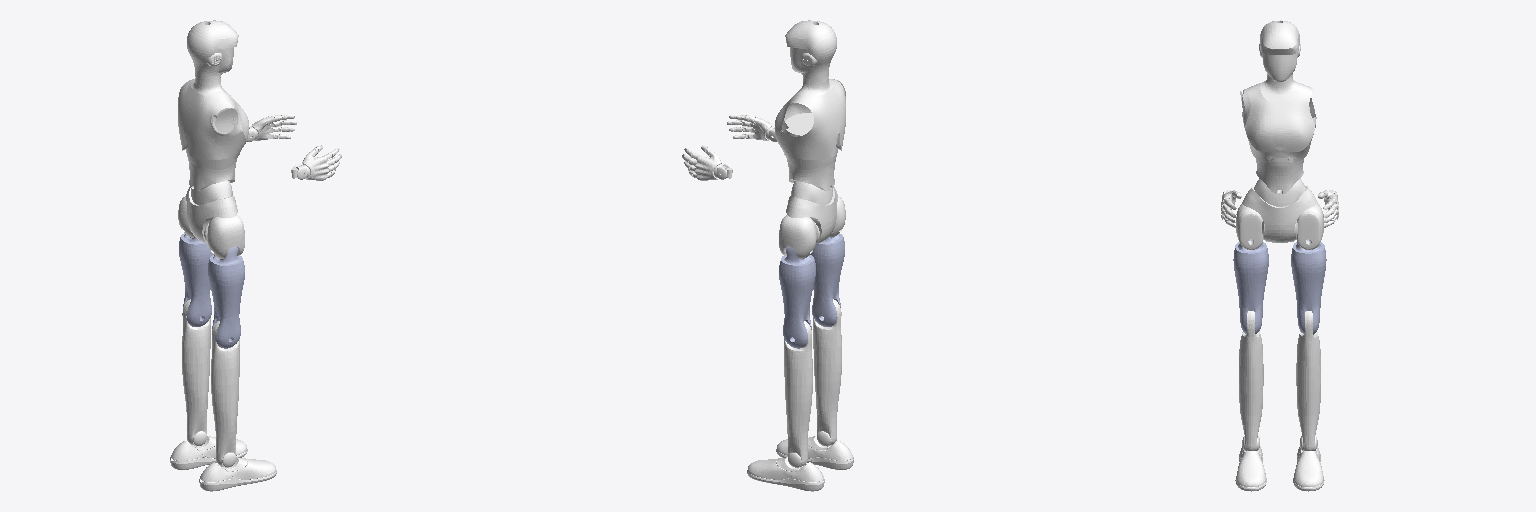
--- Render facts (derived) ---
The picture shows the robot from 3 angles, left to right: view 1: azimuth 30°, elevation 25°; view 2: azimuth 150°, elevation 25°; view 3: azimuth 270°, elevation 25°; orthographic projection.
Model X03B with 32 links and 31 joints (24 revolute, 7 fixed), rooted at pelvis, posed all joints at 0.
Links seen in each view (by area): view 1: torso_link, left_knee_link, right_knee_link, right_hip_yaw_link, head_yaw_link, left_hip_yaw_link, pelvis, right_ankle_roll_link, right_hip_pitch_link, left_ankle_roll_link, right_wrist_pitch_link, left_wrist_pitch_link; view 2: torso_link, right_knee_link, left_knee_link, left_hip_yaw_link, head_yaw_link, right_hip_yaw_link, pelvis, left_ankle_roll_link, left_hip_pitch_link, right_ankle_roll_link, left_wrist_pitch_link, right_wrist_pitch_link; view 3: torso_link, pelvis, left_knee_link, right_knee_link, left_hip_yaw_link, right_hip_yaw_link, head_yaw_link, left_ankle_roll_link, right_ankle_roll_link, left_hip_pitch_link, right_hip_pitch_link.
Link boxes in pixels (x1,y1,x2,y2): torso_link: (178,77,248,179); left_knee_link: (182,299,210,445); right_knee_link: (211,321,239,467); right_hip_yaw_link: (208,255,244,348); head_yaw_link: (187,20,238,81); left_hip_yaw_link: (179,233,213,326); pelvis: (186,181,237,243); right_ankle_roll_link: (199,457,276,491); right_hip_pitch_link: (207,215,244,258); left_ankle_roll_link: (170,436,247,469); right_wrist_pitch_link: (293,145,341,180); left_wrist_pitch_link: (247,115,296,141); torso_link: (775,77,845,179); right_knee_link: (813,299,841,445); left_knee_link: (784,321,812,467); left_hip_yaw_link: (779,255,815,348); head_yaw_link: (785,20,836,81); right_hip_yaw_link: (810,233,844,326); pelvis: (786,181,837,243); left_ankle_roll_link: (747,457,824,491); left_hip_pitch_link: (779,215,816,258); right_ankle_roll_link: (776,436,853,469); left_wrist_pitch_link: (682,145,730,180); right_wrist_pitch_link: (727,115,776,141); torso_link: (1240,75,1316,179); pelvis: (1242,178,1317,242); left_knee_link: (1296,311,1320,450); right_knee_link: (1239,311,1263,450); left_hip_yaw_link: (1291,242,1326,334); right_hip_yaw_link: (1233,242,1268,334); head_yaw_link: (1259,20,1300,81); left_ankle_roll_link: (1293,446,1324,491); right_ankle_roll_link: (1235,446,1266,491); left_hip_pitch_link: (1296,204,1323,249); right_hip_pitch_link: (1236,204,1262,249).
Bounding box of the posed robot: 0.5195 × 0.4004 × 1.66 m (x, y, z).
22 mesh visuals loaded from 22 distinct referenced files (22 binary STL).

robot.urdf — X03B:
<robot name="X03B">
  <mujoco>
    <compiler meshdir="./meshes" discardvisual="false" />
  </mujoco>

  <link name="pelvis">
    <inertial>
      <origin xyz="0.0019573 -1.0752E-05 0.056344" rpy="0 0 0" />
      <mass value="2" />
      <inertia ixx="0.018968" ixy="4.2654E-10" ixz="3.7162E-06" iyy="0.01665" iyz="-1.3974E-08" izz="0.015454" />
    </inertial>
    <visual>
      <origin xyz="0 0 0" rpy="0 0 0" />
      <geometry>
        <mesh filename="meshes/pelvis.STL" />
      </geometry>
      <material name="">
        <color rgba="1 1 1 1" />
      </material>
    </visual>
    <!-- <collision>
      <origin xyz="0 0 0" rpy="0 0 0" />
      <geometry>
        <mesh filename="meshes/pelvis.STL" />
      </geometry>
    </collision> -->
    <collision>
        <origin xyz="0 0 0.08"/>
        <geometry>
            <sphere radius="0.06"/>
        </geometry>
    </collision>
  </link>
  <link name="left_hip_pitch_link">
    <inertial>
      <origin xyz="-0.0008943 -0.001219 0.0084596" rpy="0 0 0" />
      <mass value="2" />
      <inertia ixx="0.0018174" ixy="2.4335E-08" ixz="2.4374E-05" iyy="0.002214" iyz="-9.5163E-06" izz="0.0016087" />
    </inertial>
    <visual>
      <origin xyz="0 0 0" rpy="0 0 0" />
      <geometry>
        <mesh filename="meshes/left_hip_pitch_link.STL" />
      </geometry>
      <material name="">
        <color rgba="1 1 1 1" />
      </material>
    </visual>
    <collision>
      <origin xyz="0 0 0" rpy="0 0 0" />
      <geometry>
        <mesh filename="meshes/left_hip_pitch_link.STL" />
      </geometry>
    </collision>
  </link>
  <joint name="left_hip_pitch_joint" type="revolute">
    <origin xyz="0 0.0975000000000006 0" rpy="0 0 0" />
    <parent link="pelvis" />
    <child link="left_hip_pitch_link" />
    <axis xyz="0 1 0" />
    <limit lower="-1.5708" upper="0.7854" effort="0" velocity="0" />
  </joint>
  <link name="left_hip_roll_link">
    <inertial>
      <origin xyz="2.5752E-05 -4.528E-07 -0.0093831" rpy="0 0 0" />
      <mass value="0.3" />
      <inertia ixx="0.00020398" ixy="-4.1454E-09" ixz="1.6055E-07" iyy="0.00016045" iyz="-2.7386E-09" izz="0.00015153" />
    </inertial>
    <visual>
      <origin xyz="0 0 0" rpy="0 0 0" />
      <geometry>
        <mesh filename="meshes/left_hip_roll_link.STL" />
      </geometry>
      <material name="">
        <color rgba="0.79216 0.81961 0.93333 1" />
      </material>
    </visual>
    <collision>
      <origin xyz="0 0 0" rpy="0 0 0" />
      <geometry>
        <mesh filename="meshes/left_hip_roll_link.STL" />
      </geometry>
    </collision>
  </link>
  <joint name="left_hip_roll_joint" type="revolute">
    <origin xyz="0 0 -0.044" rpy="0 0 0" />
    <parent link="left_hip_pitch_link" />
    <child link="left_hip_roll_link" />
    <axis xyz="1 0 0" />
    <limit lower="-0.1745" upper="1.5708" effort="0" velocity="0" />
  </joint>
  <link name="left_hip_yaw_link">
    <inertial>
      <origin xyz="0.00201125 0 -0.11612591" rpy="0 0 0" />
      <mass value="1.4" />
      <inertia ixx="0.01004499" ixy="-0.00000001" ixz="-0.00004671" iyy="0.00999163" iyz="0.00000000" izz="0.00202539" />
    </inertial>
    <visual>
      <origin xyz="0 0 0" rpy="0 0 0" />
      <geometry>
        <mesh filename="meshes/left_hip_yaw_link.STL" />
      </geometry>
      <material name="">
        <color rgba="0.79216 0.81961 0.93333 1" />
      </material>
    </visual>
    <collision>
      <origin xyz="0 0 0" rpy="0 0 0" />
      <geometry>
        <mesh filename="meshes/left_hip_yaw_link.STL" />
      </geometry>
    </collision>
  </link>
  <joint name="left_hip_yaw_joint" type="revolute">
    <origin xyz="0 0 -0.0419999999999999" rpy="0 0 0" />
    <parent link="left_hip_roll_link" />
    <child link="left_hip_yaw_link" />
    <axis xyz="0 0 -1" />
    <limit lower="-1.5708" upper="1.5708" effort="0" velocity="0" />
  </joint>
  <link name="left_knee_link">
    <inertial>
      <origin xyz="-0.00201967 0 -0.21600403" rpy="0 0 0" />
      <mass value="1" />
      <inertia ixx="0.01908488" ixy="0.00000000" ixz="-0.00006292" iyy="0.01928341" iyz="0.00000000" izz="0.00083337" />
    </inertial>
    <visual>
      <origin xyz="0 0 0" rpy="0 0 0" />
      <geometry>
        <mesh filename="meshes/left_knee_link.STL" />
      </geometry>
      <material name="">
        <color rgba="1 1 1 1" />
      </material>
    </visual>
    <collision>
      <origin xyz="0 0 0" rpy="0 0 0" />
      <geometry>
        <mesh filename="meshes/left_knee_link.STL" />
      </geometry>
    </collision>
  </link>
  <joint name="left_knee_joint" type="revolute">
    <origin xyz="0 0 -0.284" rpy="0 0 0" />
    <parent link="left_hip_yaw_link" />
    <child link="left_knee_link" />
    <axis xyz="0 1 0" />
    <limit lower="0" upper="2.3562" effort="0" velocity="0" />
  </joint>
  <link name="left_ankle_pitch_link">
    <inertial>
      <origin xyz="6.9616E-09 4.5483E-09 -0.0074946" rpy="0 0 0" />
      <mass value="0.4" />
      <inertia ixx="7.9792E-05" ixy="6.8119E-17" ixz="-5.4054E-11" iyy="9.1324E-05" iyz="-1.4466E-12" izz="3.5468E-05" />
    </inertial>
    <visual>
      <origin xyz="0 0 0" rpy="0 0 0" />
      <geometry>
        <mesh filename="meshes/left_ankle_pitch_link.STL" />
      </geometry>
      <material name="">
        <color rgba="1 1 1 1" />
      </material>
    </visual>
    <collision>
      <origin xyz="0 0 0" rpy="0 0 0" />
      <geometry>
        <mesh filename="meshes/left_ankle_pitch_link.STL" />
      </geometry>
    </collision>
  </link>
  <joint name="left_ankle_pitch_joint" type="revolute">
    <origin xyz="0 0 -0.449999999999998" rpy="0 0 0" />
    <parent link="left_knee_link" />
    <child link="left_ankle_pitch_link" />
    <axis xyz="0 1 0" />
    <limit lower="-1.0472" upper="1.0472" effort="0" velocity="0" />
  </joint>
  <link name="left_ankle_roll_link">
    <inertial>
      <origin xyz="0.025367 -1.8243E-07 -0.010325" rpy="0 0 0" />
      <mass value="0.6" />
      <inertia ixx="0.00039193" ixy="-8.6608E-09" ixz="0.00015542" iyy="0.0034177" iyz="-2.9474E-11" izz="0.0036796" />
    </inertial>
    <visual>
      <origin xyz="0 0 0" rpy="0 0 0" />
      <geometry>
        <mesh filename="meshes/left_ankle_roll_link.STL" />
      </geometry>
      <material name="">
        <color rgba="1 1 1 1" />
      </material>
    </visual>
    <!-- <collision>
      <origin xyz="0 0 0" rpy="0 0 0" />
      <geometry>
        <mesh filename="meshes/left_ankle_roll_link.STL" />
      </geometry>
    </collision> -->
    <collision><origin xyz="-0.085  0 -0.036"/><geometry><sphere radius="0.005"/></geometry></collision>
    <collision><origin xyz="-0.035  0.034 -0.036"/><geometry><sphere radius="0.005"/></geometry></collision>
    <collision><origin xyz="-0.035 -0.034 -0.036"/><geometry><sphere radius="0.005"/></geometry></collision>
    <collision><origin xyz="0.12    0.045 -0.036"/><geometry><sphere radius="0.005"/></geometry></collision>
    <collision><origin xyz="0.12   -0.045 -0.036"/><geometry><sphere radius="0.005"/></geometry></collision>
    <collision><origin xyz="0.18  0  -0.036"/><geometry><sphere radius="0.005"/></geometry></collision>
    <collision>
            <origin xyz="0.08 -0.026 -0.024" rpy="0 1.5708 0"/>
            <geometry>
                <cylinder radius="0.01" length="0.1"/>
            </geometry>
    </collision>
    <collision>
            <origin xyz="0.044 -0.018 -0.024" rpy="0 -1.5708 0"/>
            <geometry>
                <cylinder radius="0.01" length="0.2"/>
            </geometry>
    </collision>
    <collision>
            <origin xyz="0.046 -0.01 -0.024" rpy="0 -1.5708 0"/>
            <geometry>
                <cylinder radius="0.01" length="0.24"/>
            </geometry>
    </collision>
    <collision>
            <origin xyz="0.048 0 -0.024" rpy="0 -1.5708 0"/>
            <geometry>
                <cylinder radius="0.01" length="0.25"/>
            </geometry>
    </collision>
    <collision>
            <origin xyz="0.046 0.01 -0.024" rpy="0 -1.5708 0"/>
            <geometry>
                <cylinder radius="0.01" length="0.24"/>
            </geometry>
    </collision>
    <collision>
            <origin xyz="0.044 0.018 -0.024" rpy="0 -1.5708 0"/>
            <geometry>
                <cylinder radius="0.01" length="0.2"/>
            </geometry>
    </collision>
    <collision>
            <origin xyz="0.08 0.026 -0.024" rpy="0 1.5708 0"/>
            <geometry>
                <cylinder radius="0.01" length="0.1"/>
            </geometry>
    </collision>
  </link>
  <joint name="left_ankle_roll_joint" type="revolute">
    <origin xyz="0 0 -0.0579999999999991" rpy="0 0 0" />
    <parent link="left_ankle_pitch_link" />
    <child link="left_ankle_roll_link" />
    <axis xyz="1 0 0" />
    <limit lower="-0.524" upper="0.524" effort="0" velocity="0" />
  </joint>
  <link name="right_hip_pitch_link">
    <inertial>
      <origin xyz="-0.0008943 -0.001219 0.0084596" rpy="0 0 0" />
      <mass value="2" />
      <inertia ixx="0.0018174" ixy="2.4335E-08" ixz="2.4374E-05" iyy="0.002214" iyz="-9.5163E-06" izz="0.0016087" />
    </inertial>
    <visual>
      <origin xyz="0 0 0" rpy="0 0 0" />
      <geometry>
        <mesh filename="meshes/right_hip_pitch_link.STL" />
      </geometry>
      <material name="">
        <color rgba="1 1 1 1" />
      </material>
    </visual>
    <collision>
      <origin xyz="0 0 0" rpy="0 0 0" />
      <geometry>
        <mesh filename="meshes/right_hip_pitch_link.STL" />
      </geometry>
    </collision>
  </link>
  <joint name="right_hip_pitch_joint" type="revolute">
    <origin xyz="0 -0.0975000000000001 0" rpy="0 0 0" />
    <parent link="pelvis" />
    <child link="right_hip_pitch_link" />
    <axis xyz="0 1 0" />
    <limit lower="-1.5708" upper="0.7854" effort="0" velocity="0" />
  </joint>
  <link name="right_hip_roll_link">
    <inertial>
      <origin xyz="2.5751E-05 -4.4797E-07 -0.0093831" rpy="0 0 0" />
      <mass value="0.3" />
      <inertia ixx="0.00020398" ixy="-4.1587E-09" ixz="1.6054E-07" iyy="0.00016045" iyz="-2.7012E-09" izz="0.00015153" />
    </inertial>
    <visual>
      <origin xyz="0 0 0" rpy="0 0 0" />
      <geometry>
        <mesh filename="meshes/right_hip_roll_link.STL" />
      </geometry>
      <material name="">
        <color rgba="0.79216 0.81961 0.93333 1" />
      </material>
    </visual>
    <collision>
      <origin xyz="0 0 0" rpy="0 0 0" />
      <geometry>
        <mesh filename="meshes/right_hip_roll_link.STL" />
      </geometry>
    </collision>
  </link>
  <joint name="right_hip_roll_joint" type="revolute">
    <origin xyz="0 0 -0.044" rpy="0 0 0" />
    <parent link="right_hip_pitch_link" />
    <child link="right_hip_roll_link" />
    <axis xyz="1 0 0" />
    <limit lower="-1.5708" upper="0.1745" effort="0" velocity="0" />
  </joint>
  <link name="right_hip_yaw_link">
    <inertial>
      <origin xyz="0.00201125 0 -0.11612591" rpy="0 0 0" />
      <mass value="1.4" />
      <inertia ixx="0.01004499" ixy="-0.00000001" ixz="-0.00004671" iyy="0.00999163" iyz="0.00000000" izz="0.00202539" />
    </inertial>
    <visual>
      <origin xyz="0 0 0" rpy="0 0 0" />
      <geometry>
        <mesh filename="meshes/right_hip_yaw_link.STL" />
      </geometry>
      <material name="">
        <color rgba="0.79216 0.81961 0.93333 1" />
      </material>
    </visual>
    <collision>
      <origin xyz="0 0 0" rpy="0 0 0" />
      <geometry>
        <mesh filename="meshes/right_hip_yaw_link.STL" />
      </geometry>
    </collision>
  </link>
  <joint name="right_hip_yaw_joint" type="revolute">
    <origin xyz="0 0 -0.042" rpy="0 0 0" />
    <parent link="right_hip_roll_link" />
    <child link="right_hip_yaw_link" />
    <axis xyz="0 0 1" />
    <limit lower="-1.5708" upper="1.5708" effort="0" velocity="0" />
  </joint>
  <link name="right_knee_link">
    <inertial>
      <origin xyz="-0.00201967 0 -0.21600403" rpy="0 0 0" />
      <mass value="1" />
      <inertia ixx="0.01908488" ixy="0.00000000" ixz="-0.00006292" iyy="0.01928341" iyz="0.00000000" izz="0.00083337" />
    </inertial>
    <visual>
      <origin xyz="0 0 0" rpy="0 0 0" />
      <geometry>
        <mesh filename="meshes/right_knee_link.STL" />
      </geometry>
      <material name="">
        <color rgba="1 1 1 1" />
      </material>
    </visual>
    <collision>
      <origin xyz="0 0 0" rpy="0 0 0" />
      <geometry>
        <mesh filename="meshes/right_knee_link.STL" />
      </geometry>
    </collision>
  </link>
  <joint name="right_knee_joint" type="revolute">
    <origin xyz="0 0 -0.284" rpy="0 0 0" />
    <parent link="right_hip_yaw_link" />
    <child link="right_knee_link" />
    <axis xyz="0 1 0" />
    <limit lower="0" upper="2.3562" effort="0" velocity="0" />
  </joint>
  <link name="right_ankle_pitch_link">
    <inertial>
      <origin xyz="6.9616E-09 4.5483E-09 -0.0074946" rpy="0 0 0" />
      <mass value="0.4" />
      <inertia ixx="7.9792E-05" ixy="6.7961E-17" ixz="-5.4054E-11" iyy="9.1324E-05" iyz="-1.4466E-12" izz="3.5468E-05" />
    </inertial>
    <visual>
      <origin xyz="0 0 0" rpy="0 0 0" />
      <geometry>
        <mesh filename="meshes/right_ankle_pitch_link.STL" />
      </geometry>
      <material name="">
        <color rgba="1 1 1 1" />
      </material>
    </visual>
    <collision>
      <origin xyz="0 0 0" rpy="0 0 0" />
      <geometry>
        <mesh filename="meshes/right_ankle_pitch_link.STL" />
      </geometry>
    </collision>
  </link>
  <joint name="right_ankle_pitch_joint" type="revolute">
    <origin xyz="0 0 -0.449999999999999" rpy="0 0 0" />
    <parent link="right_knee_link" />
    <child link="right_ankle_pitch_link" />
    <axis xyz="0 1 0" />
    <limit lower="-1.0472" upper="1.0472" effort="0" velocity="0" />
  </joint>
  <link name="right_ankle_roll_link">
    <inertial>
      <origin xyz="0.025367 -1.8287E-07 -0.010325" rpy="0 0 0" />
      <mass value="0.6" />
      <inertia ixx="0.00039193" ixy="-8.6276E-09" ixz="0.00015542" iyy="0.0034177" iyz="-3.2223E-11" izz="0.0036796" />
    </inertial>
    <visual>
      <origin xyz="0 0 0" rpy="0 0 0" />
      <geometry>
        <mesh filename="meshes/right_ankle_roll_link.STL" />
      </geometry>
      <material name="">
        <color rgba="1 1 1 1" />
      </material>
    </visual>
    <!-- <collision>
      <origin xyz="0 0 0" rpy="0 0 0" />
      <geometry>
        <mesh filename="meshes/right_ankle_roll_link.STL" />
      </geometry>
    </collision> -->
    <collision><origin xyz="-0.085  0 -0.036"/><geometry><sphere radius="0.005"/></geometry></collision>
    <collision><origin xyz="-0.035  0.034 -0.036"/><geometry><sphere radius="0.005"/></geometry></collision>
    <collision><origin xyz="-0.035 -0.034 -0.036"/><geometry><sphere radius="0.005"/></geometry></collision>
    <collision><origin xyz="0.12    0.045 -0.036"/><geometry><sphere radius="0.005"/></geometry></collision>
    <collision><origin xyz="0.12   -0.045 -0.036"/><geometry><sphere radius="0.005"/></geometry></collision>
    <collision><origin xyz="0.18  0  -0.036"/><geometry><sphere radius="0.005"/></geometry></collision>
    <collision>
            <origin xyz="0.08 -0.026 -0.024" rpy="0 1.5708 0"/>
            <geometry>
                <cylinder radius="0.01" length="0.1"/>
            </geometry>
    </collision>
    <collision>
            <origin xyz="0.044 -0.018 -0.024" rpy="0 -1.5708 0"/>
            <geometry>
                <cylinder radius="0.01" length="0.2"/>
            </geometry>
    </collision>
    <collision>
            <origin xyz="0.046 -0.01 -0.024" rpy="0 -1.5708 0"/>
            <geometry>
                <cylinder radius="0.01" length="0.24"/>
            </geometry>
    </collision>
    <collision>
            <origin xyz="0.048 0 -0.024" rpy="0 -1.5708 0"/>
            <geometry>
                <cylinder radius="0.01" length="0.25"/>
            </geometry>
    </collision>
    <collision>
            <origin xyz="0.046 0.01 -0.024" rpy="0 -1.5708 0"/>
            <geometry>
                <cylinder radius="0.01" length="0.24"/>
            </geometry>
    </collision>
    <collision>
            <origin xyz="0.044 0.018 -0.024" rpy="0 -1.5708 0"/>
            <geometry>
                <cylinder radius="0.01" length="0.2"/>
            </geometry>
    </collision>
    <collision>
            <origin xyz="0.08 0.026 -0.024" rpy="0 1.5708 0"/>
            <geometry>
                <cylinder radius="0.01" length="0.1"/>
            </geometry>
    </collision>
  </link>
  <joint name="right_ankle_roll_joint" type="revolute">
    <origin xyz="0 0 -0.0579999999999992" rpy="0 0 0" />
    <parent link="right_ankle_pitch_link" />
    <child link="right_ankle_roll_link" />
    <axis xyz="1 0 0" />
    <limit lower="-0.524" upper="0.524" effort="0" velocity="0" />
  </joint>
  <link name="waist_roll_link">
    <inertial>
      <origin xyz="0.0020869 -9.8997E-08 0.027535" rpy="0 0 0" />
      <mass value="1.5" />
      <inertia ixx="0.00083753" ixy="-4.0056E-09" ixz="-1.5131E-06" iyy="0.0011951" iyz="5.2634E-10" izz="0.0017744" />
    </inertial>
    <visual>
      <origin xyz="0 0 0" rpy="0 0 0" />
      <geometry>
        <mesh filename="meshes/waist_roll_link.STL" />
      </geometry>
      <material name="">
        <color rgba="1 1 1 1" />
      </material>
    </visual>
    <collision>
      <origin xyz="0 0 0" rpy="0 0 0" />
      <geometry>
        <mesh filename="meshes/waist_roll_link.STL" />
      </geometry>
    </collision>
  </link>
  <joint name="waist_roll_joint" type="revolute">
    <origin xyz="0 0 0.1525" rpy="0 0 0" />
    <parent link="pelvis" />
    <child link="waist_roll_link" />
    <axis xyz="-1 0 0" />
    <limit lower="-0.3491" upper="0.3491" effort="0" velocity="0" />
  </joint>
  <link name="waist_yaw_link">
    <inertial>
      <origin xyz="4.4409E-16 0 0.0535" rpy="0 0 0" />
      <mass value="0.1" />
      <inertia ixx="1.0472E-07" ixy="1.3356E-24" ixz="2.7573E-25" iyy="1.0472E-07" iyz="2.2058E-24" izz="1.5708E-07" />
    </inertial>
    <visual>
      <origin xyz="0 0 0" rpy="0 0 0" />
      <geometry>
        <mesh filename="meshes/waist_yaw_link.STL" />
      </geometry>
      <material name="">
        <color rgba="1 1 1 1" />
      </material>
    </visual>
    <collision>
      <origin xyz="0 0 0" rpy="0 0 0" />
      <geometry>
        <mesh filename="meshes/waist_yaw_link.STL" />
      </geometry>
    </collision>
  </link>
  <joint name="waist_yaw_joint" type="revolute">
    <origin xyz="0 0 0" rpy="0 0 0" />
    <parent link="waist_roll_link" />
    <child link="waist_yaw_link" />
    <axis xyz="0 0 1" />
    <limit lower="-1.5708" upper="1.5708" effort="0" velocity="0" />
  </joint>
  <link name="torso_link">
    <inertial>
      <origin xyz="0.0035481 -2.2396E-07 0.13946" rpy="0 0 0" />
      <mass value="9.9" />
      <inertia ixx="0.017698" ixy="-4.392E-08" ixz="-3.9036E-05" iyy="0.017346" iyz="1.895E-08" izz="0.016621" />
    </inertial>
    <visual>
      <origin xyz="0 0 0" rpy="0 0 0" />
      <geometry>
        <mesh filename="meshes/torso_link.STL" />
      </geometry>
      <material name="">
        <color rgba="1 1 1 1" />
      </material>
    </visual>
    <collision>
      <origin xyz="0 0 0" rpy="0 0 0" />
      <geometry>
        <mesh filename="meshes/torso_link.STL" />
      </geometry>
    </collision>
  </link>
  <joint name="torso_joint" type="fixed">
    <origin xyz="0 0 0" rpy="0 0 0" />
    <parent link="waist_yaw_link" />
    <child link="torso_link" />
    <axis xyz="0 0 0" />
  </joint>
  <link name="head_pitch_link">
    <inertial>
      <origin xyz="-9.0916E-09 5.1765E-09 0.0034789" rpy="0 0 0" />
      <mass value="0.5" />
      <inertia ixx="7.0972E-07" ixy="2.1771E-11" ixz="7.9633E-13" iyy="6.7519E-07" iyz="-3.7469E-13" izz="4.9986E-07" />
    </inertial>
    <visual>
      <origin xyz="0 0 0" rpy="0 0 0" />
      <geometry>
        <mesh filename="meshes/head_pitch_link.STL" />
      </geometry>
      <material name="">
        <color rgba="1 1 1 1" />
      </material>
    </visual>
    <collision>
      <origin xyz="0 0 0" rpy="0 0 0" />
      <geometry>
        <mesh filename="meshes/head_pitch_link.STL" />
      </geometry>
    </collision>
  </link>
  <joint name="head_pitch_joint" type="fixed">
    <origin xyz="-0.0150000000000001 1.03068293899611E-05 0.3815" rpy="0 0 0" />
    <parent link="torso_link" />
    <child link="head_pitch_link" />
    <axis xyz="0 0 0" />
    <limit lower="0" upper="0" effort="0" velocity="0" />
  </joint>
  <link name="head_yaw_link">
    <inertial>
      <origin xyz="0.014736 0.00089129 0.11887" rpy="0 0 0" />
      <mass value="3" />
      <inertia ixx="0.0078721" ixy="7.4285E-07" ixz="0.00043122" iyy="0.0066172" iyz="-3.1899E-06" izz="0.0036833" />
    </inertial>
    <visual>
      <origin xyz="0 0 0" rpy="0 0 0" />
      <geometry>
        <mesh filename="meshes/head_yaw_link.STL" />
      </geometry>
      <material name="">
        <color rgba="1 1 1 1" />
      </material>
    </visual>
    <collision>
      <origin xyz="0 0 0" rpy="0 0 0" />
      <geometry>
        <mesh filename="meshes/head_yaw_link.STL" />
      </geometry>
    </collision>
  </link>
  <joint name="head_yaw_joint" type="fixed">
    <origin xyz="0 0 0" rpy="0 0 0" />
    <parent link="head_pitch_link" />
    <child link="head_yaw_link" />
    <axis xyz="0 0 0" />
    <limit lower="0" upper="0" effort="0" velocity="0" />
  </joint>
  <link name="left_shoulder_pitch_link">
    <inertial>
      <origin xyz="-2.1187E-08 0.055283 -3.2729E-10" rpy="0 0 0" />
      <mass value="0.8" />
      <inertia ixx="0.00059731" ixy="-2.1296E-11" ixz="1.6798E-10" iyy="0.00060184" iyz="-1.3626E-09" izz="0.00056165" />
    </inertial>
    <!-- <visual>
      <origin xyz="0 0 0" rpy="0 0 0" />
      <geometry>
        <mesh filename="meshes/left_shoulder_pitch_link.STL" />
      </geometry>
      <material name="">
        <color rgba="1 1 1 1" />
      </material>
    </visual>
    <collision>
      <origin xyz="0 0 0" rpy="0 0 0" />
      <geometry>
        <mesh filename="meshes/left_shoulder_pitch_link.STL" />
      </geometry>
    </collision> -->
  </link>
  <joint name="left_shoulder_pitch_joint" type="revolute">
    <origin xyz="-0.0150000000016766 0.0835112359330128 0.286500000005521" rpy="0 0 0" />
    <parent link="torso_link" />
    <child link="left_shoulder_pitch_link" />
    <axis xyz="0 1 0" />
    <limit lower="-3.1416" upper="1.5708" effort="0" velocity="0" />
  </joint>
  <link name="left_shoulder_roll_link">
    <inertial>
      <origin xyz="-0.0011333 0.00054145 -0.0024787" rpy="0 0 0" />
      <mass value="0.2" />
      <inertia ixx="0.000111" ixy="-3.9009E-09" ixz="-3.9963E-08" iyy="7.1762E-05" iyz="1.8436E-06" izz="7.126E-05" />
    </inertial>
    <!-- <visual>
      <origin xyz="0 0 0" rpy="0 0 0" />
      <geometry>
        <mesh filename="meshes/left_shoulder_roll_link.STL" />
      </geometry>
      <material name="">
        <color rgba="1 1 1 1" />
      </material>
    </visual>
    <collision>
      <origin xyz="0 0 0" rpy="0 0 0" />
      <geometry>
        <mesh filename="meshes/left_shoulder_roll_link.STL" />
      </geometry>
    </collision> -->
    <collision>
      <origin xyz="0 0 0"/>
      <geometry>
          <sphere radius="0.025"/>
      </geometry>
    </collision>
  </link>
  <joint name="left_shoulder_roll_joint" type="revolute">
    <origin xyz="0 0.07399527579835 0" rpy="0 0 0" />
    <parent link="left_shoulder_pitch_link" />
    <child link="left_shoulder_roll_link" />
    <axis xyz="1 0 0" />
    <limit lower="-0.1222" upper="2.0944" effort="0" velocity="0" />
  </joint>
  <link name="left_shoulder_yaw_link">
    <inertial>
      <origin xyz="-0.0010112 3.4167E-05 -0.096956" rpy="0 0 0" />
      <mass value="1.7" />
      <inertia ixx="0.0026061" ixy="-1.2818E-08" ixz="-5.8542E-06" iyy="0.002525" iyz="-7.7049E-06" izz="0.00054206" />
    </inertial>
    <!-- <visual>
      <origin xyz="0 0 0" rpy="0 0 0" />
      <geometry>
        <mesh filename="meshes/left_shoulder_yaw_link.STL" />
      </geometry>
      <material name="">
        <color rgba="1 1 1 1" />
      </material>
    </visual>
    <collision>
      <origin xyz="0 0 0" rpy="0 0 0" />
      <geometry>
        <mesh filename="meshes/left_shoulder_yaw_link.STL" />
      </geometry>
    </collision> -->
    <collision>
      <origin xyz="0 0 -0.07" rpy="3.1416 0 0"/>
      <geometry>
          <cylinder radius="0.030" length="0.13"/>
      </geometry>
    </collision>
  </link>
  <joint name="left_shoulder_yaw_joint" type="revolute">
    <origin xyz="0 0.00256631167321908 -0.0369111569683327" rpy="0.0693126999225227 0 0" />
    <parent link="left_shoulder_roll_link" />
    <child link="left_shoulder_yaw_link" />
    <axis xyz="0 0 1" />
    <limit lower="-0.7854" upper="0.7854" effort="0" velocity="0" />
  </joint>
  <link name="left_elbow_link">
    <inertial>
      <origin xyz="0.00058454 3.3764E-10 0.0012698" rpy="0 0 0" />
      <mass value="0.6" />
      <inertia ixx="5.5486E-05" ixy="1.697E-14" ixz="-4.5201E-08" iyy="8.3729E-05" iyz="-5.3251E-11" izz="5.3989E-05" />
    </inertial>
    <!-- <visual>
      <origin xyz="0 0 0" rpy="0 0 0" />
      <geometry>
        <mesh filename="meshes/left_elbow_link.STL" />
      </geometry>
      <material name="">
        <color rgba="1 1 1 1" />
      </material>
    </visual>
    <collision>
      <origin xyz="0 0 0" rpy="0 0 0" />
      <geometry>
        <mesh filename="meshes/left_elbow_link.STL" />
      </geometry>
    </collision> -->
    <collision>
      <origin xyz="0 0 0"/>
      <geometry>
          <sphere radius="0.03"/>
      </geometry>
    </collision>
  </link>
  <joint name="left_elbow_joint" type="revolute">
    <origin xyz="0 0 -0.193" rpy="0 0 0" />
    <parent link="left_shoulder_yaw_link" />
    <child link="left_elbow_link" />
    <axis xyz="0 1 0" />
    <limit lower="-0.5236" upper="1.5708" effort="0" velocity="0" />
  </joint>
  <link name="left_wrist_roll_link">
    <inertial>
      <origin xyz="0.09449 0.0006287 0.0003023" rpy="0 0 0" />
      <mass value="1.1" />
      <inertia ixx="0.00025229" ixy="-1.5559E-05" ixz="1.8368E-05" iyy="0.0018327" iyz="1.7024E-07" izz="0.0018096" />
    </inertial>
    <!-- <visual>
      <origin xyz="0 0 0" rpy="0 0 0" />
      <geometry>
        <mesh filename="meshes/left_wrist_roll_link.STL" />
      </geometry>
      <material name="">
        <color rgba="1 1 1 1" />
      </material>
    </visual>
    <collision>
      <origin xyz="0 0 0" rpy="0 0 0" />
      <geometry>
        <mesh filename="meshes/left_wrist_roll_link.STL" />
      </geometry>
    </collision> -->
    <collision>
      <origin xyz="0.1 0 0" rpy="0 1.57 0"/>
      <geometry>
          <cylinder radius="0.030" length="0.18"/>
      </geometry>
    </collision>
  </link>
  <joint name="left_wrist_roll_joint" type="revolute">
    <origin xyz="0.0319999999680638 0 0" rpy="0 0 0" />
    <parent link="left_elbow_link" />
    <child link="left_wrist_roll_link" />
    <axis xyz="1 0 0" />
    <limit lower="-0.7854" upper="0.7854" effort="0" velocity="0" />
  </joint>
  <link name="left_wrist_yaw_link">
    <inertial>
      <origin xyz="0.01075 4.4409E-16 1.1102E-16" rpy="0 0 0" />
      <mass value="0.1" />
      <inertia ixx="2.0918E-06" ixy="-8.3991E-20" ixz="5.0423E-21" iyy="3.7169E-06" iyz="2.1705E-21" izz="3.7169E-06" />
    </inertial>
    <visual>
      <origin xyz="0 0 0" rpy="0 0 0" />
      <geometry>
        <mesh filename="meshes/left_wrist_yaw_link.STL" />
      </geometry>
      <material name="">
        <color rgba="1 1 1 1" />
      </material>
    </visual>
    <collision>
      <origin xyz="0 0 0" rpy="0 0 0" />
      <geometry>
        <mesh filename="meshes/left_wrist_yaw_link.STL" />
      </geometry>
    </collision>
  </link>
  <joint name="left_wrist_yaw_joint" type="fixed">
    <origin xyz="0.203 0 0" rpy="0 0 0" />
    <parent link="left_wrist_roll_link" />
    <child link="left_wrist_yaw_link" />
    <axis xyz="0 0 1" />
    <limit lower="-1.0472" upper="1.0472" effort="0" velocity="0" />
  </joint>
  <link name="left_wrist_pitch_link">
    <inertial>
      <origin xyz="0.063609 0.00066333 0.0046234" rpy="0 0 0" />
      <mass value="0.6" />
      <inertia ixx="0.00020175" ixy="1.8409E-05" ixz="-6.2532E-06" iyy="0.00055219" iyz="3.213E-05" izz="0.00044197" />
    </inertial>
    <visual>
      <origin xyz="0 0 0" rpy="0 0 0" />
      <geometry>
        <mesh filename="meshes/left_wrist_pitch_link.STL" />
      </geometry>
      <material name="">
        <color rgba="1 1 1 1" />
      </material>
    </visual>
    <collision>
      <origin xyz="0 0 0" rpy="0 0 0" />
      <geometry>
        <mesh filename="meshes/left_wrist_pitch_link.STL" />
      </geometry>
    </collision>
  </link>
  <joint name="left_wrist_pitch_joint" type="fixed">
    <origin xyz="0.0215000000000023 0 0" rpy="0 0 0" />
    <parent link="left_wrist_yaw_link" />
    <child link="left_wrist_pitch_link" />
    <axis xyz="0 1 0" />
    <limit lower="-0.5236" upper="0.5236" effort="0" velocity="0" />
  </joint>
  <link name="right_shoulder_pitch_link">
    <inertial>
      <origin xyz="2.1275E-08 -0.055283 -4.7153E-10" rpy="0 0 0" />
      <mass value="0.8" />
      <inertia ixx="0.00059731" ixy="-2.2279E-11" ixz="-1.6762E-10" iyy="0.00060184" iyz="1.3612E-09" izz="0.00056165" />
    </inertial>
    <!-- <visual>
      <origin xyz="0 0 0" rpy="0 0 0" />
      <geometry>
        <mesh filename="meshes/right_shoulder_pitch_link.STL" />
      </geometry>
      <material name="">
        <color rgba="1 1 1 1" />
      </material>
    </visual>
    <collision>
      <origin xyz="0 0 0" rpy="0 0 0" />
      <geometry>
        <mesh filename="meshes/right_shoulder_pitch_link.STL" />
      </geometry>
    </collision> -->
  </link>
  <joint name="right_shoulder_pitch_joint" type="revolute">
    <origin xyz="-0.0149999999998838 -0.0834906219829068 0.2865" rpy="0 0 0" />
    <parent link="torso_link" />
    <child link="right_shoulder_pitch_link" />
    <axis xyz="0 1 0" />
    <limit lower="-3.1416" upper="1.5708" effort="0" velocity="0" />
  </joint>
  <link name="right_shoulder_roll_link">
    <inertial>
      <origin xyz="0.0011333 -0.00054141 -0.0024787" rpy="0 0 0" />
      <mass value="0.2" />
      <inertia ixx="0.000111" ixy="-3.8745E-09" ixz="4.0005E-08" iyy="7.1762E-05" iyz="-1.8435E-06" izz="7.126E-05" />
    </inertial>
    <!-- <visual>
      <origin xyz="0 0 0" rpy="0 0 0" />
      <geometry>
        <mesh filename="meshes/right_shoulder_roll_link.STL" />
      </geometry>
      <material name="">
        <color rgba="1 1 1 1" />
      </material>
    </visual>
    <collision>
      <origin xyz="0 0 0" rpy="0 0 0" />
      <geometry>
        <mesh filename="meshes/right_shoulder_roll_link.STL" />
      </geometry>
    </collision> -->
    <collision>
      <origin xyz="0 0 0"/>
      <geometry>
          <sphere radius="0.025"/>
      </geometry>
    </collision>
  </link>
  <joint name="right_shoulder_roll_joint" type="revolute">
    <origin xyz="0 -0.07399527579835 0" rpy="0 0 0" />
    <parent link="right_shoulder_pitch_link" />
    <child link="right_shoulder_roll_link" />
    <axis xyz="1 0 0" />
    <limit lower="-2.0944" upper="0.1222" effort="0" velocity="0" />
  </joint>
  <link name="right_shoulder_yaw_link">
    <inertial>
      <origin xyz="0.0010112 -3.4168E-05 -0.096956" rpy="0 0 0" />
      <mass value="1.7" />
      <inertia ixx="0.0026061" ixy="-1.2821E-08" ixz="5.8541E-06" iyy="0.002525" iyz="7.7049E-06" izz="0.00054206" />
    </inertial>
    <!-- <visual>
      <origin xyz="0 0 0" rpy="0 0 0" />
      <geometry>
        <mesh filename="meshes/right_shoulder_yaw_link.STL" />
      </geometry>
      <material name="">
        <color rgba="1 1 1 1" />
      </material>
    </visual>
    <collision>
      <origin xyz="0 0 0" rpy="0 0 0" />
      <geometry>
        <mesh filename="meshes/right_shoulder_yaw_link.STL" />
      </geometry>
    </collision> -->
    <collision>
      <origin xyz="0 0 -0.07" rpy="3.1416 0 0"/>
      <geometry>
          <cylinder radius="0.030" length="0.13"/>
      </geometry>
    </collision>
  </link>
  <joint name="right_shoulder_yaw_joint" type="revolute">
    <origin xyz="0 -0.00256631230718973 -0.0369111569453834" rpy="-0.0693126999225212 0 0" />
    <parent link="right_shoulder_roll_link" />
    <child link="right_shoulder_yaw_link" />
    <axis xyz="0 0 1" />
    <limit lower="-0.7854" upper="0.7854" effort="0" velocity="0" />
  </joint>
  <link name="right_elbow_link">
    <inertial>
      <origin xyz="0.00058454 5.2562E-12 -0.0012698" rpy="0 0 0" />
      <mass value="0.6" />
      <inertia ixx="5.5486E-05" ixy="-1.6972E-14" ixz="4.5201E-08" iyy="8.3729E-05" iyz="-5.3251E-11" izz="5.3989E-05" />
    </inertial>
    <!-- <visual>
      <origin xyz="0 0 0" rpy="0 0 0" />
      <geometry>
        <mesh filename="meshes/right_elbow_link.STL" />
      </geometry>
      <material name="">
        <color rgba="1 1 1 1" />
      </material>
    </visual>
    <collision>
      <origin xyz="0 0 0" rpy="0 0 0" />
      <geometry>
        <mesh filename="meshes/right_elbow_link.STL" />
      </geometry>
    </collision> -->
    <collision>
      <origin xyz="0 0 0"/>
      <geometry>
          <sphere radius="0.03"/>
      </geometry>
    </collision>
  </link>
  <joint name="right_elbow_joint" type="revolute">
    <origin xyz="0 0 -0.193" rpy="0 0 0" />
    <parent link="right_shoulder_yaw_link" />
    <child link="right_elbow_link" />
    <axis xyz="0 1 0" />
    <limit lower="-0.5236" upper="1.5708" effort="0" velocity="0" />
  </joint>
  <link name="right_wrist_roll_link">
    <inertial>
      <origin xyz="0.09449 -0.0006287 -0.00030231" rpy="0 0 0" />
      <mass value="1.1" />
      <inertia ixx="0.00025229" ixy="1.5559E-05" ixz="-1.8369E-05" iyy="0.0018327" iyz="1.7002E-07" izz="0.0018096" />
    </inertial>
    <!-- <visual>
      <origin xyz="0 0 0" rpy="0 0 0" />
      <geometry>
        <mesh filename="meshes/right_wrist_roll_link.STL" />
      </geometry>
      <material name="">
        <color rgba="1 1 1 1" />
      </material>
    </visual>
    <collision>
      <origin xyz="0 0 0" rpy="0 0 0" />
      <geometry>
        <mesh filename="meshes/right_wrist_roll_link.STL" />
      </geometry>
    </collision> -->
    <collision>
      <origin xyz="0.1 0 0" rpy="0 1.57 0"/>
      <geometry>
          <cylinder radius="0.030" length="0.18"/>
      </geometry>
    </collision>
  </link>
  <joint name="right_wrist_roll_joint" type="revolute">
    <origin xyz="0.0319999999999996 0 0" rpy="0 0 0" />
    <parent link="right_elbow_link" />
    <child link="right_wrist_roll_link" />
    <axis xyz="1 0 0" />
    <limit lower="-0.7854" upper="0.7854" effort="0" velocity="0" />
  </joint>
  <link name="right_wrist_yaw_link">
    <inertial>
      <origin xyz="0.01075 -1.3678E-13 3.3307E-16" rpy="0 0 0" />
      <mass value="0.1" />
      <inertia ixx="2.0918E-06" ixy="7.3683E-20" ixz="9.9917E-22" iyy="3.7169E-06" iyz="-3.9969E-21" izz="3.7169E-06" />
    </inertial>
    <visual>
      <origin xyz="0 0 0" rpy="0 0 0" />
      <geometry>
        <mesh filename="meshes/right_wrist_yaw_link.STL" />
      </geometry>
      <material name="">
        <color rgba="1 1 1 1" />
      </material>
    </visual>
    <collision>
      <origin xyz="0 0 0" rpy="0 0 0" />
      <geometry>
        <mesh filename="meshes/right_wrist_yaw_link.STL" />
      </geometry>
    </collision>
  </link>
  <joint name="right_wrist_yaw_joint" type="fixed">
    <origin xyz="0.203 0 0" rpy="0 0 0" />
    <parent link="right_wrist_roll_link" />
    <child link="right_wrist_yaw_link" />
    <axis xyz="0 0 1" />
    <limit lower="-1.0472" upper="1.0472" effort="0" velocity="0" />
  </joint>
  <link name="right_wrist_pitch_link">
    <inertial>
      <origin xyz="0.063609 -0.00066189 0.0046223" rpy="0 0 0" />
      <mass value="0.6" />
      <inertia ixx="0.00020174" ixy="-1.8409E-05" ixz="-6.2672E-06" iyy="0.00055219" iyz="-3.2146E-05" izz="0.00044197" />
    </inertial>
    <visual>
      <origin xyz="0 0 0" rpy="0 0 0" />
      <geometry>
        <mesh filename="meshes/right_wrist_pitch_link.STL" />
      </geometry>
      <material name="">
        <color rgba="1 1 1 1" />
      </material>
    </visual>
    <collision>
      <origin xyz="0 0 0" rpy="0 0 0" />
      <geometry>
        <mesh filename="meshes/right_wrist_pitch_link.STL" />
      </geometry>
    </collision>
  </link>
  <joint name="right_wrist_pitch_joint" type="fixed">
    <origin xyz="0.0215000000000027 0 0" rpy="0 0 0" />
    <parent link="right_wrist_yaw_link" />
    <child link="right_wrist_pitch_link" />
    <axis xyz="0 1 0" />
    <limit lower="-0.5236" upper="0.5236" effort="0" velocity="0" />
  </joint>
</robot>
